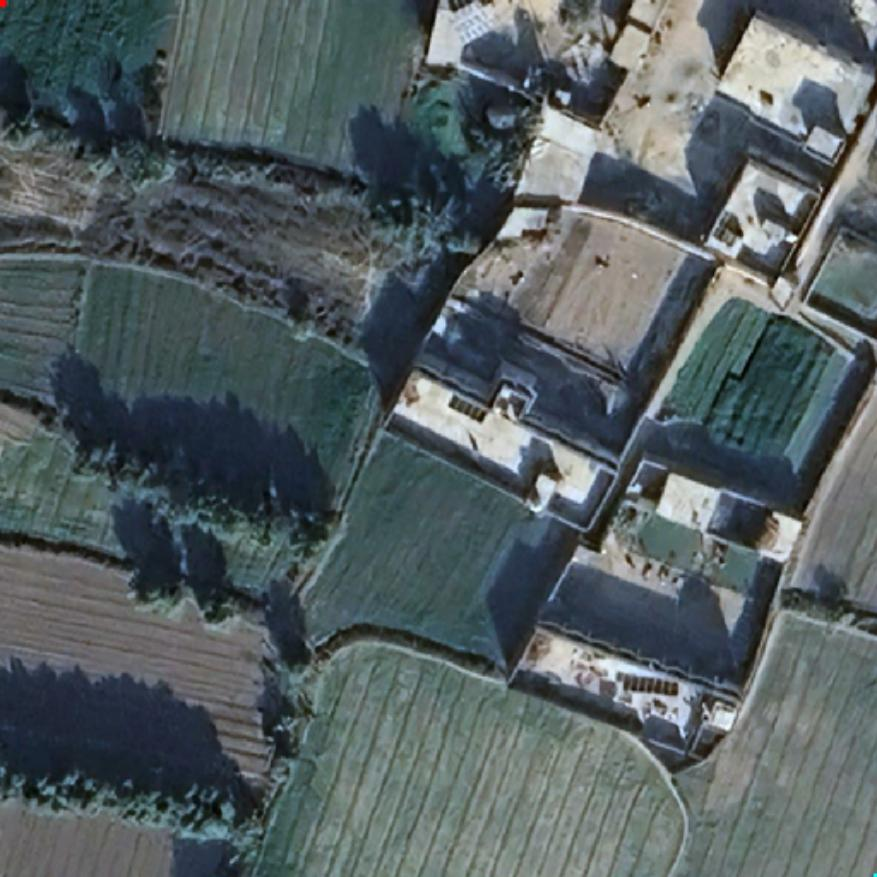Solarpanel: (450, 0, 498, 44), (442, 393, 491, 428), (615, 673, 680, 697)
